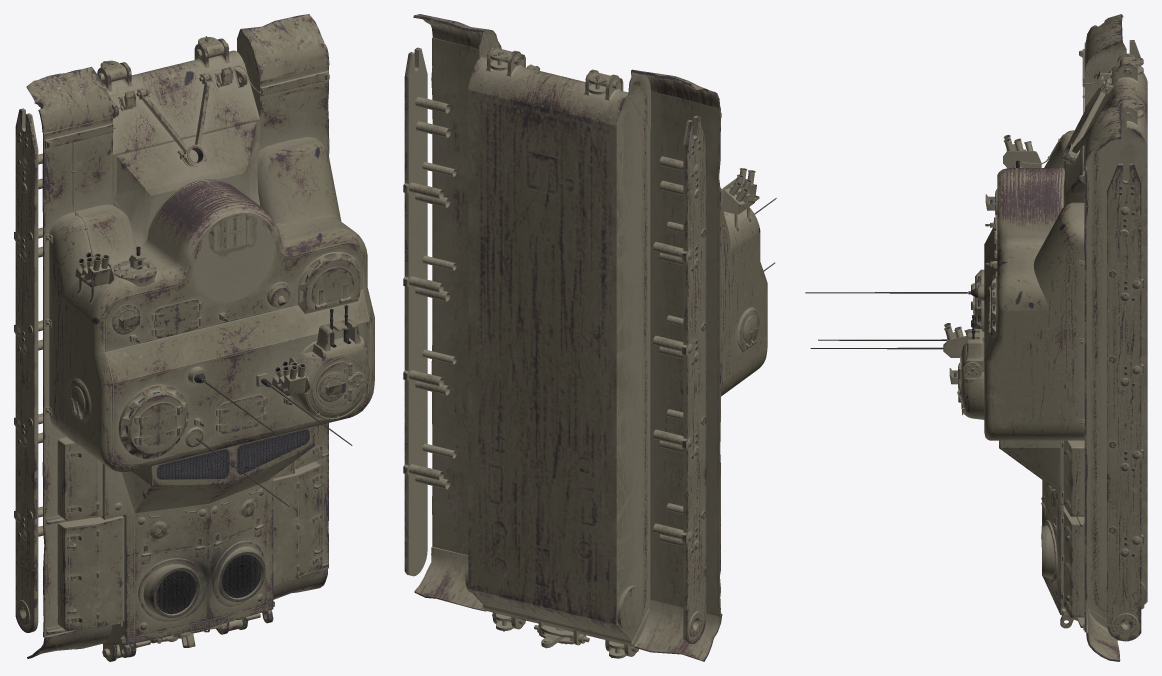
File: Hull.glb
3 renders of one model, left to right at view 1: azimuth 30°, elevation 25°; view 2: azimuth 150°, elevation 25°; view 3: azimuth 270°, elevation 25°, orthographic. The views are drawn at different scales.
Parts seen in each view (by area): view 1: set_0_group_0; view 2: set_0_group_0; view 3: set_0_group_0.
Part boxes in pixels (left/top/right/bottom): set_0_group_0: left=14, top=14, right=374, bottom=661; set_0_group_0: left=403, top=14, right=776, bottom=661; set_0_group_0: left=805, top=14, right=1147, bottom=661.
Size of the model in its own units: 3.68 by 7.26 by 4.15.
Materials: 1 (1 with a texture image).
